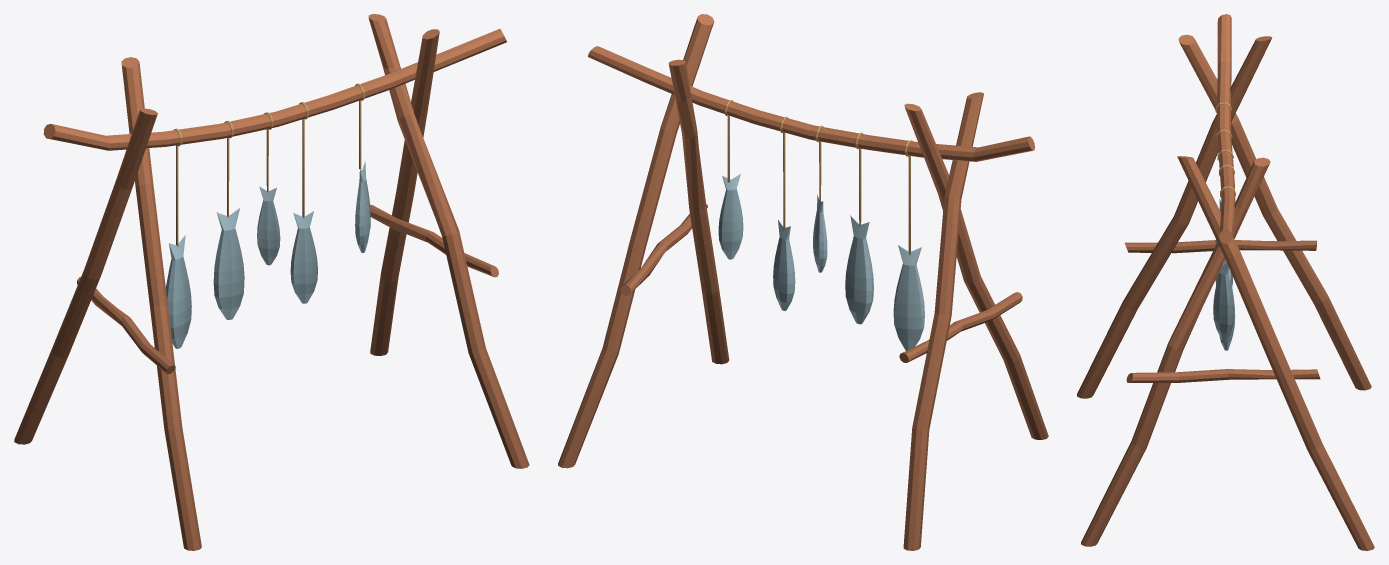
The model's file is drying-fish.glb.
3 renders of one model, left to right at view 1: azimuth 30°, elevation 25°; view 2: azimuth 150°, elevation 25°; view 3: azimuth 270°, elevation 25°, orthographic. The views are drawn at different scales.
Visible parts, largest first — view 1: drying fish; view 2: drying fish; view 3: drying fish.
Part boxes in pixels (x1,y1,x2,y2): drying fish: [14, 14, 529, 550]; drying fish: [558, 14, 1048, 550]; drying fish: [1077, 14, 1374, 550].
Size of the model in its own units: 2.08 by 1.75 by 1.27.
1 material, 1 textured.
